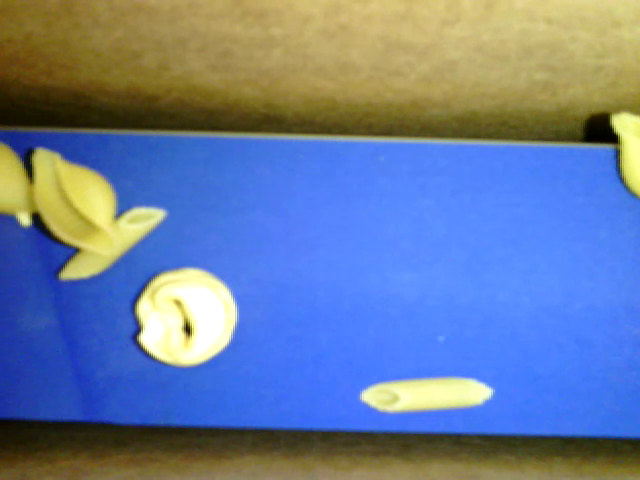penne: (58, 204, 167, 282), (359, 375, 496, 413)
shell: (30, 145, 118, 254), (1, 141, 35, 221), (609, 112, 639, 197)
tortellini: (134, 267, 239, 367)
